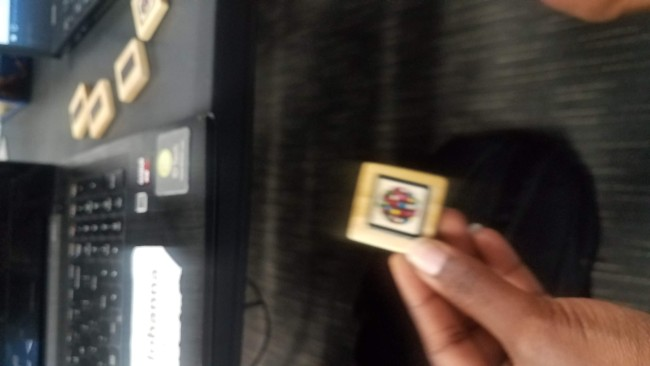cookie: (343, 165, 449, 248)
